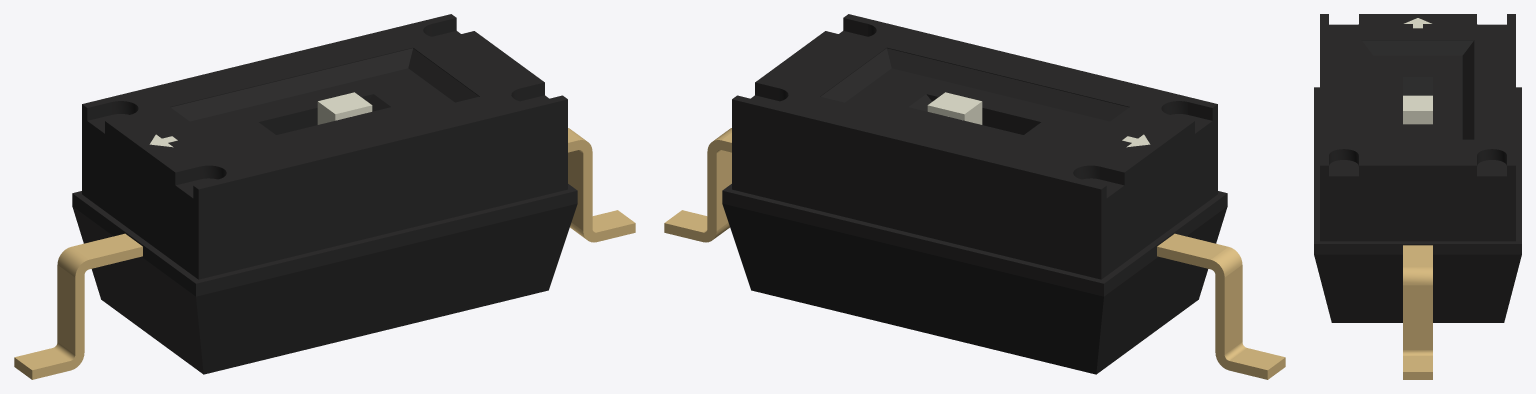
Rendered from kc-sw_dip_spstx01_slide_omron_a6s-110x_w8.9mm_p2.54mm.glb.
3 renders of one model, left to right at view 1: azimuth 30°, elevation 25°; view 2: azimuth 150°, elevation 25°; view 3: azimuth 270°, elevation 25°, orthographic. The views are drawn at different scales.
Parts seen in each view (by area): view 1: 0_0_0_0, 0.75_0.5_0.25_0.9, 0.75_0.75_0.6666666666666666_0; view 2: 0_0_0_0, 0.75_0.5_0.25_0.9, 0.75_0.75_0.6666666666666666_0; view 3: 0_0_0_0, 0.75_0.5_0.25_0.9, 0.75_0.75_0.6666666666666666_0.
Part boxes in pixels (box(x1,y1,x2,y2)): 0_0_0_0: box(72, 14, 577, 374); 0.75_0.5_0.25_0.9: box(14, 128, 635, 379); 0.75_0.75_0.6666666666666666_0: box(149, 92, 372, 147); 0_0_0_0: box(722, 14, 1227, 374); 0.75_0.5_0.25_0.9: box(664, 128, 1285, 379); 0.75_0.75_0.6666666666666666_0: box(927, 92, 1150, 147); 0_0_0_0: box(1314, 14, 1521, 322); 0.75_0.5_0.25_0.9: box(1403, 245, 1432, 379); 0.75_0.75_0.6666666666666666_0: box(1403, 18, 1432, 124).
Bounding box in the file's own units: 0.98 × 0.3075 × 0.348.
